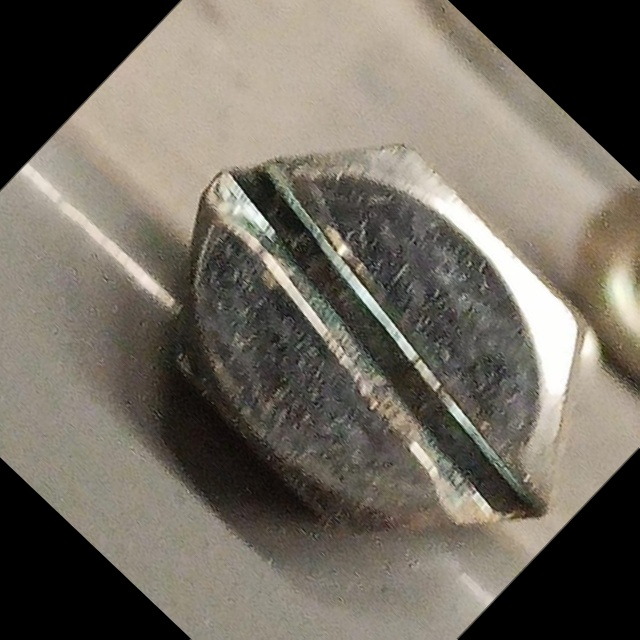duz: (88, 58, 640, 634)
